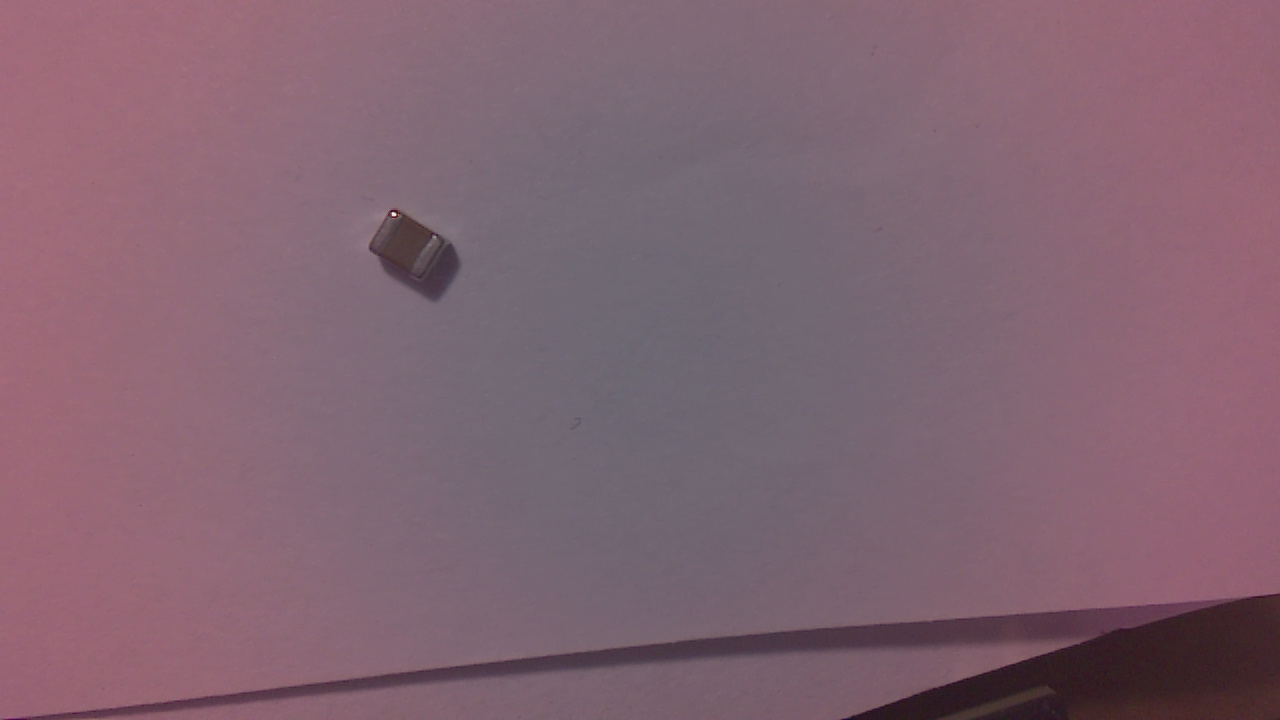Condensator: (377, 213, 453, 294)
